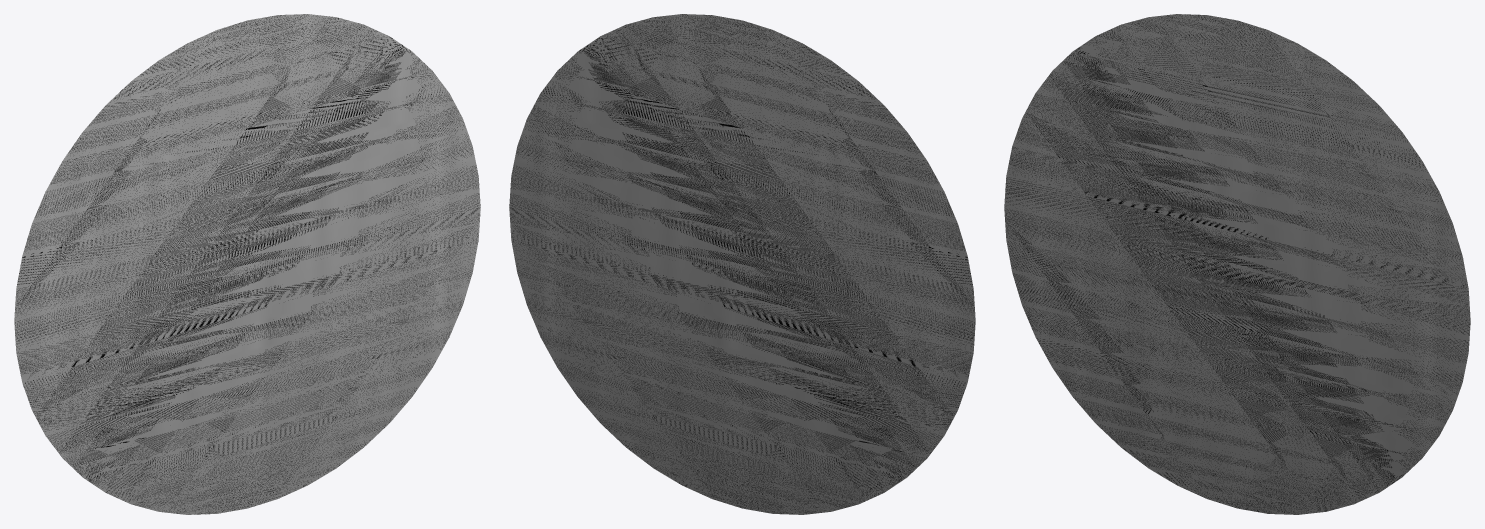
The model's file is original-53.obj.
3 views of the same model, side by side, from view 1: azimuth 30°, elevation 25°; view 2: azimuth 150°, elevation 25°; view 3: azimuth 330°, elevation 25° (orthographic).
Visible parts, largest first — view 1: Group4/mesh3/mesh3-geometry/material_9#mesh3-geometry; view 2: Group4/mesh3/mesh3-geometry/material_9#mesh3-geometry; view 3: Group4/mesh3/mesh3-geometry/material_9#mesh3-geometry.
Boxes of the visible parts, left/top/right/bottom form: Group4/mesh3/mesh3-geometry/material_9#mesh3-geometry: left=14, top=14, right=480, bottom=514; Group4/mesh3/mesh3-geometry/material_9#mesh3-geometry: left=509, top=14, right=975, bottom=514; Group4/mesh3/mesh3-geometry/material_9#mesh3-geometry: left=1004, top=14, right=1470, bottom=514.
Size of the model in its own units: 0.2671 by 0.2671 by 0.
Materials: 2 (1 with a texture image).
